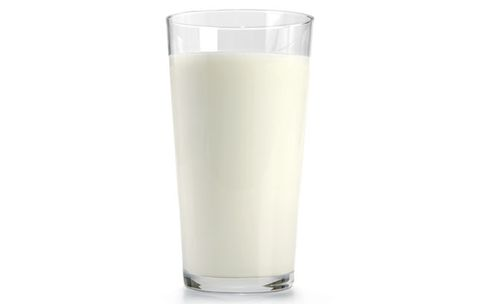glass of milk: (160, 8, 319, 295)
